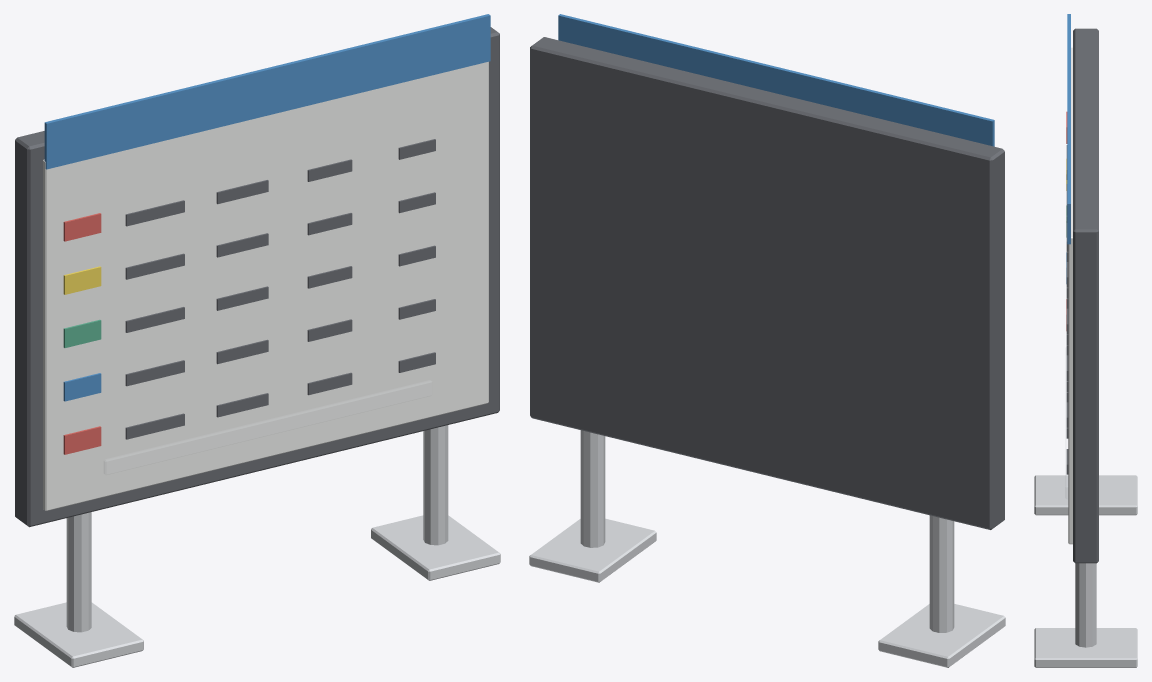
The model's file is public-swimming-baths-and-poolside-session-times-notic-6ebfdd89__35282.glb.
3 renders of one model, left to right at view 1: azimuth 30°, elevation 25°; view 2: azimuth 150°, elevation 25°; view 3: azimuth 270°, elevation 25°, orthographic. The views are drawn at different scales.
Visible parts, largest first — view 1: session-times-notice-board; view 2: session-times-notice-board; view 3: session-times-notice-board.
Boxes of the visible parts, x1,y1,x2,y2 form: session-times-notice-board: (14, 14, 500, 667); session-times-notice-board: (529, 14, 1005, 667); session-times-notice-board: (1034, 14, 1137, 667).
Size of the model in its own units: 1.3 by 1.4 by 0.28.
